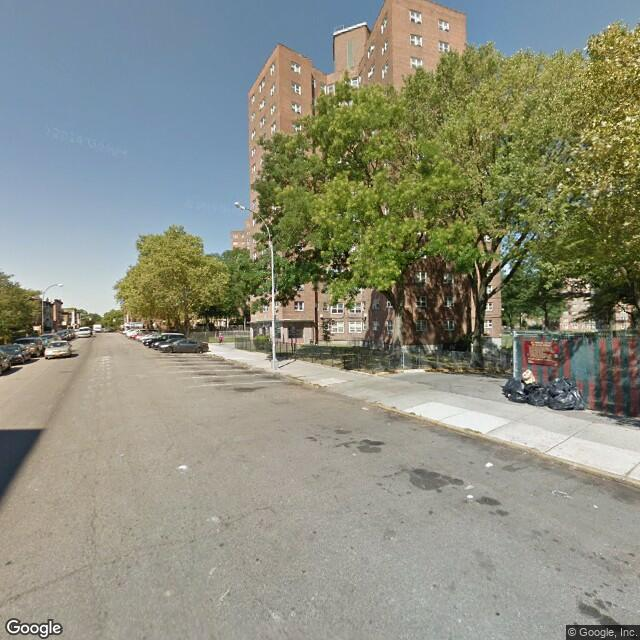litter: (495, 375, 601, 412)
